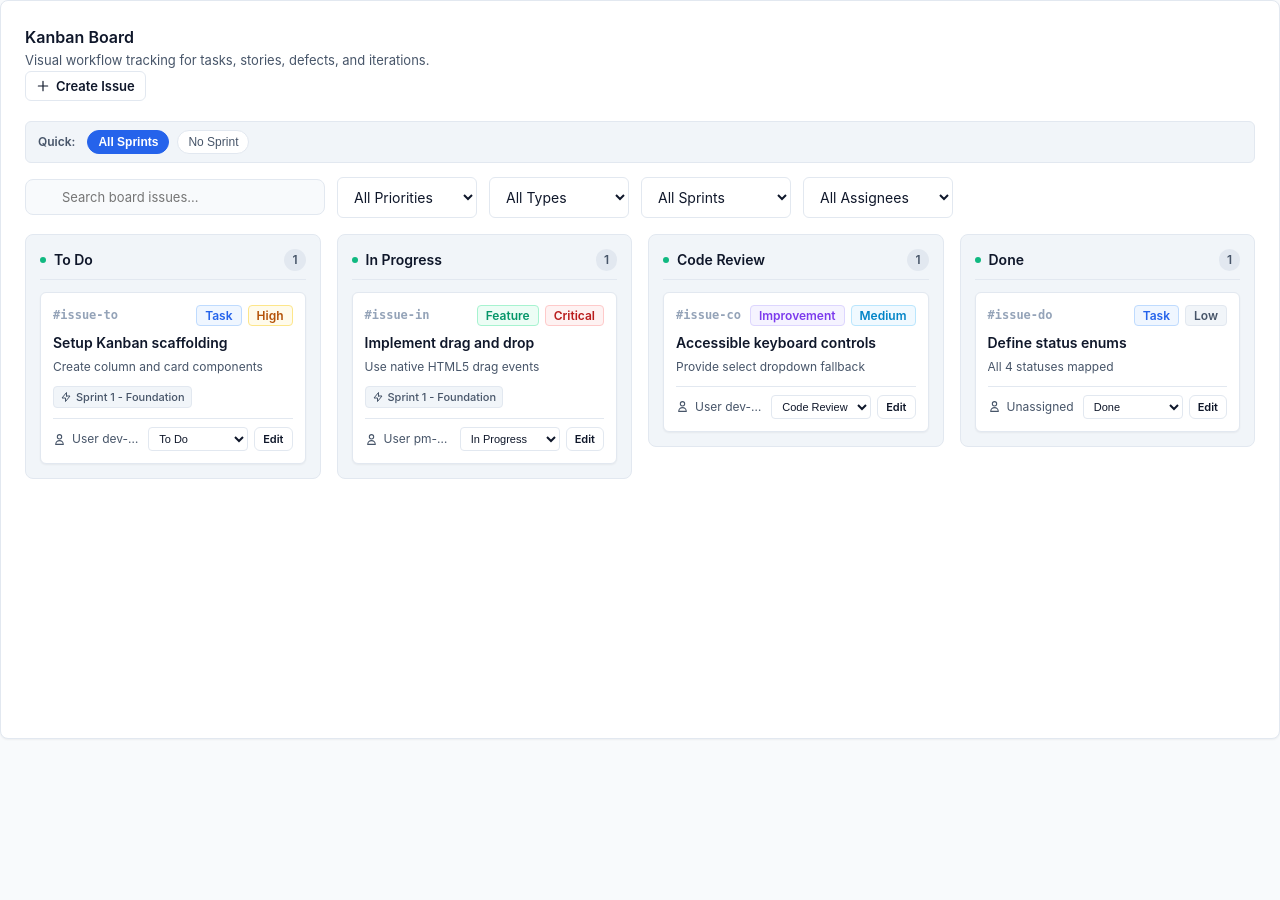
Test: KanbanBoard Component › moves issue status successfully with optimistic update
Expected: the link "Setup Kanban scaffolding" is shown, [53,334,228,351]
Select "In Progress" in the dropdown named "move issue setup kanban scaffolding to status" at (198, 440), box [148,428,248,452]
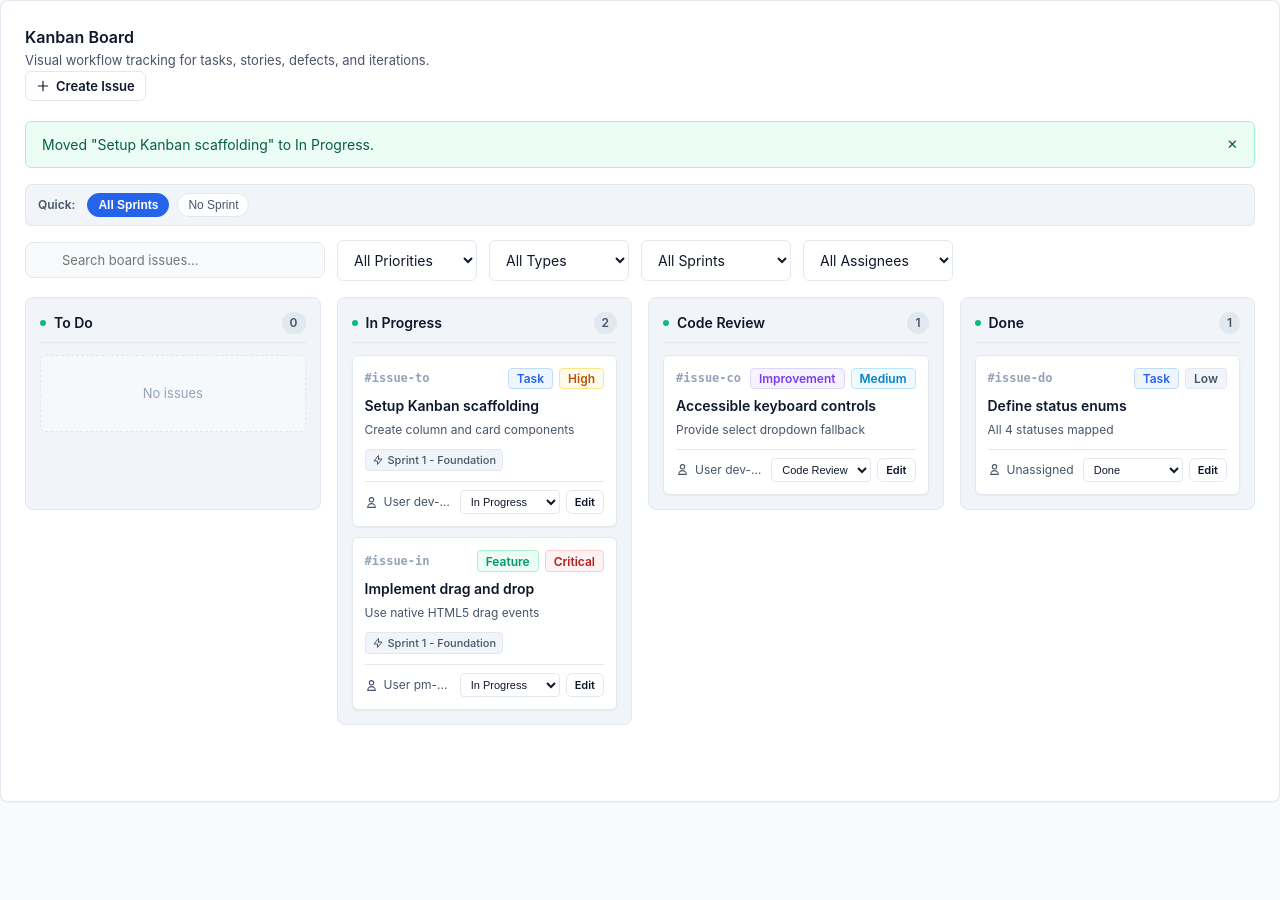
Now the text "Moved \"Setup Kanban scaffolding\" to In Progress." is shown, box [42,134,374,154]
